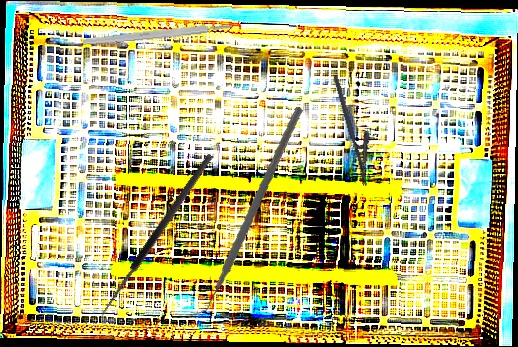Chopper: (163, 106, 326, 318)
Hook Surgical: (98, 152, 222, 324)
Needle Holder: (332, 70, 383, 187)
Scalpel Handle: (82, 22, 233, 47)
